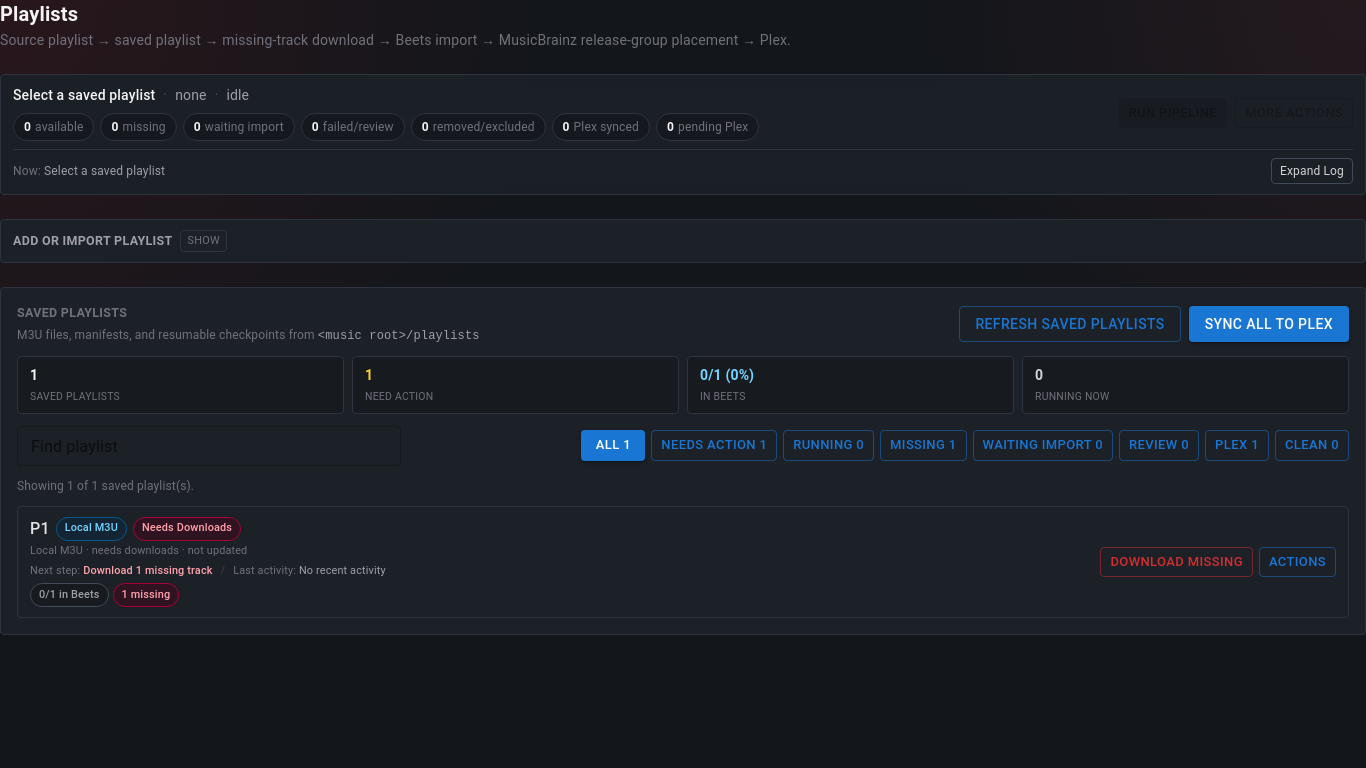
it: Playlists MusicBrainz outage notice (#252 NF-4, QA-3/QA-4) › passes acoustid_status to the notice; not_attempted adds no AcoustID warning (#356)
The image size is (1366, 768).
Click the button "Actions". click: click(1297, 562)
box: x1=1259 y1=547 x2=1336 y2=577
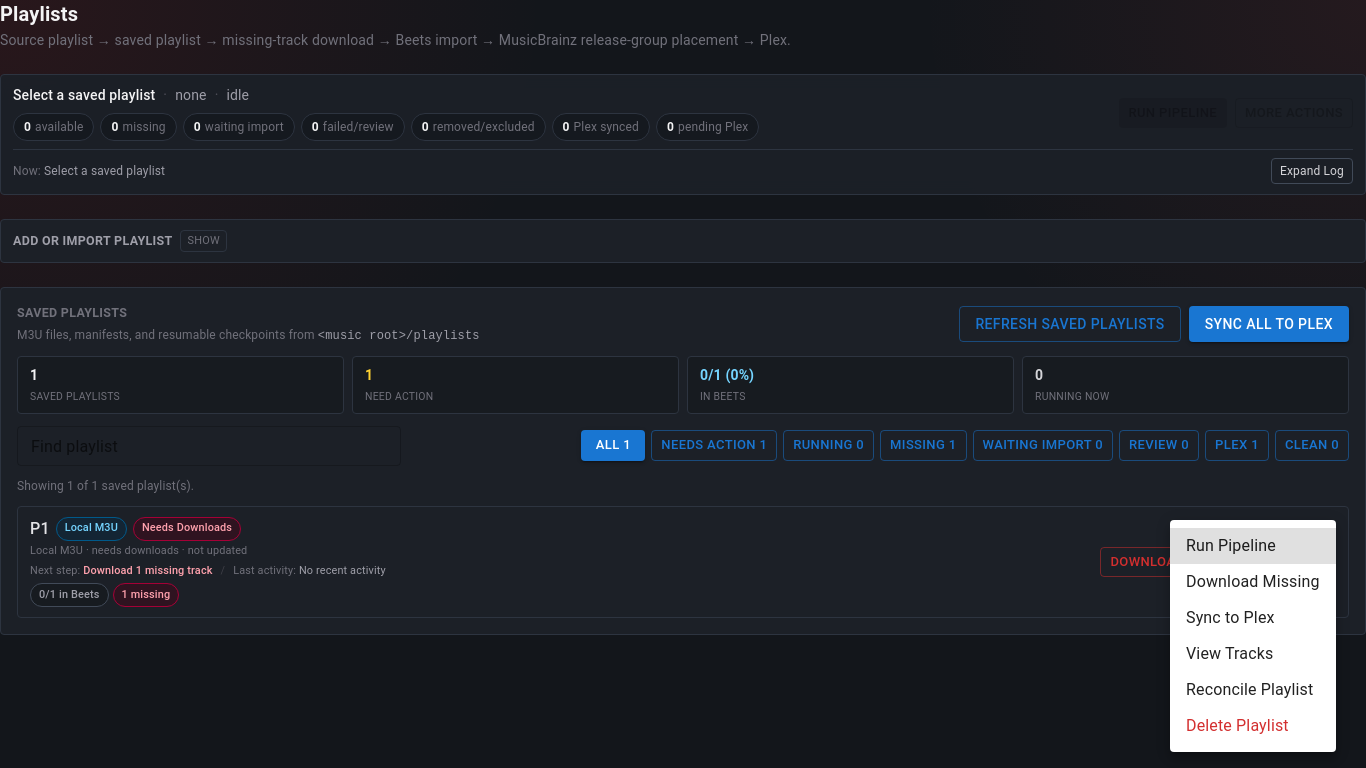
Click the menu item "View Tracks". click: click(1230, 654)
box: x1=1186 y1=644 x2=1273 y2=663
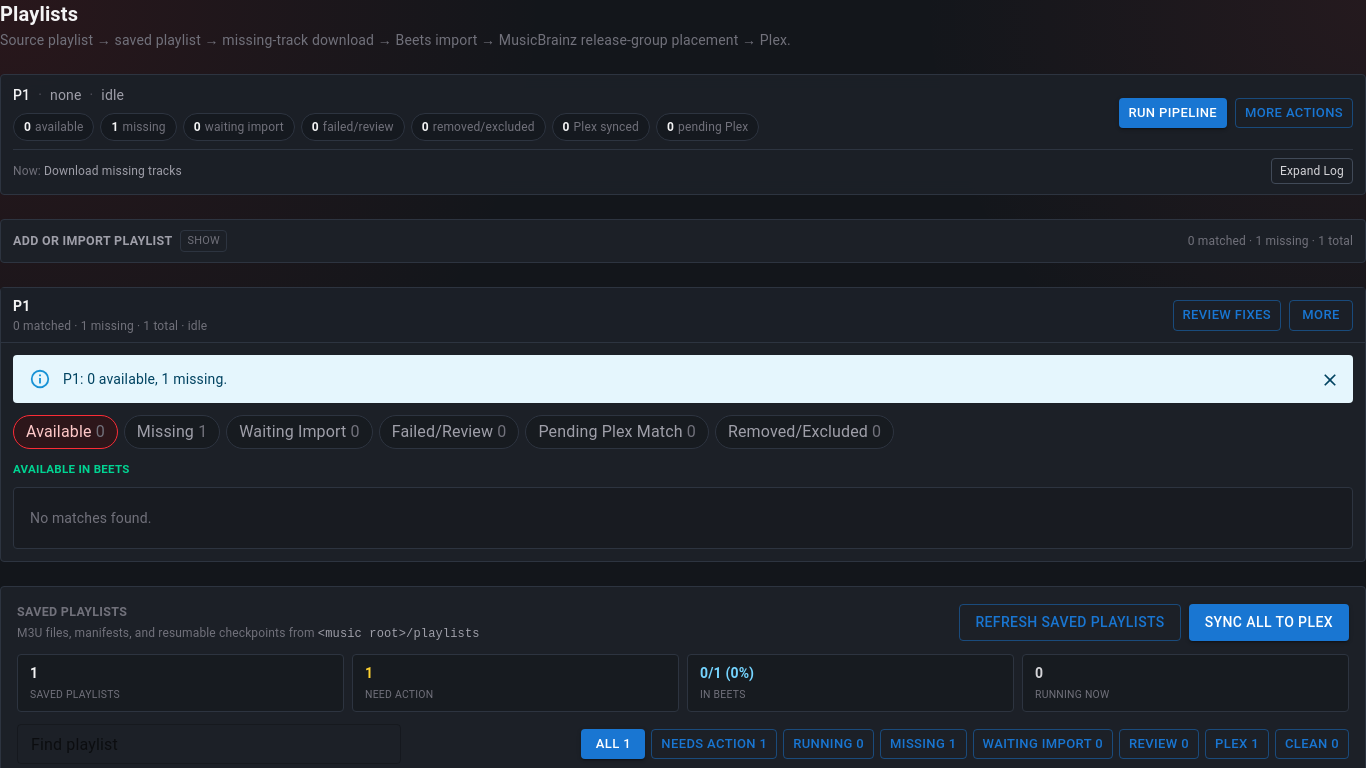
Click the button "Review Fixes". click: click(1227, 315)
box: x1=1173 y1=300 x2=1281 y2=331
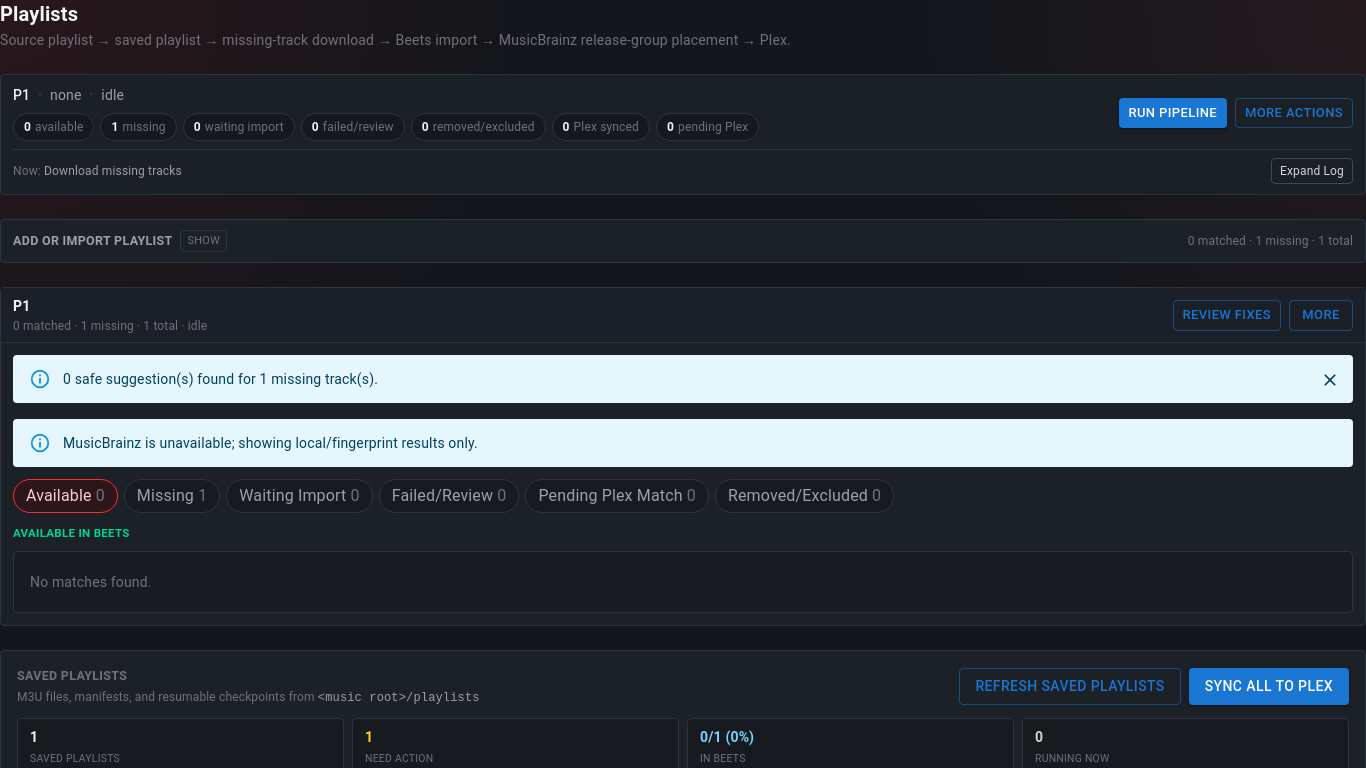
Expected: the text "MusicBrainz is unavailable; showing local/fingerprint results only." is shown, x1=63 y1=435 x2=478 y2=451
